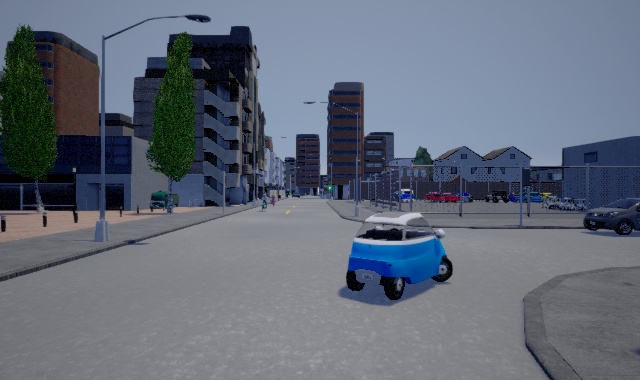bike: (259, 193, 273, 211)
vehicle: (346, 212, 453, 300), (583, 198, 640, 235)
